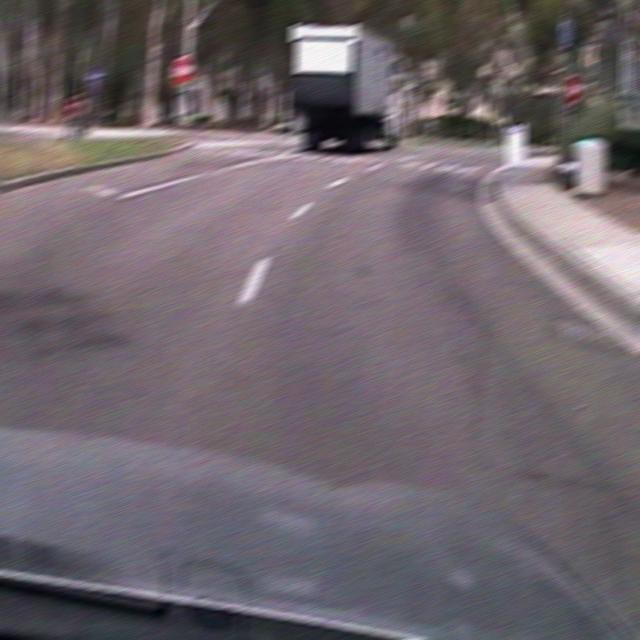stop_sign: (560, 74, 584, 103), (172, 54, 194, 83)
